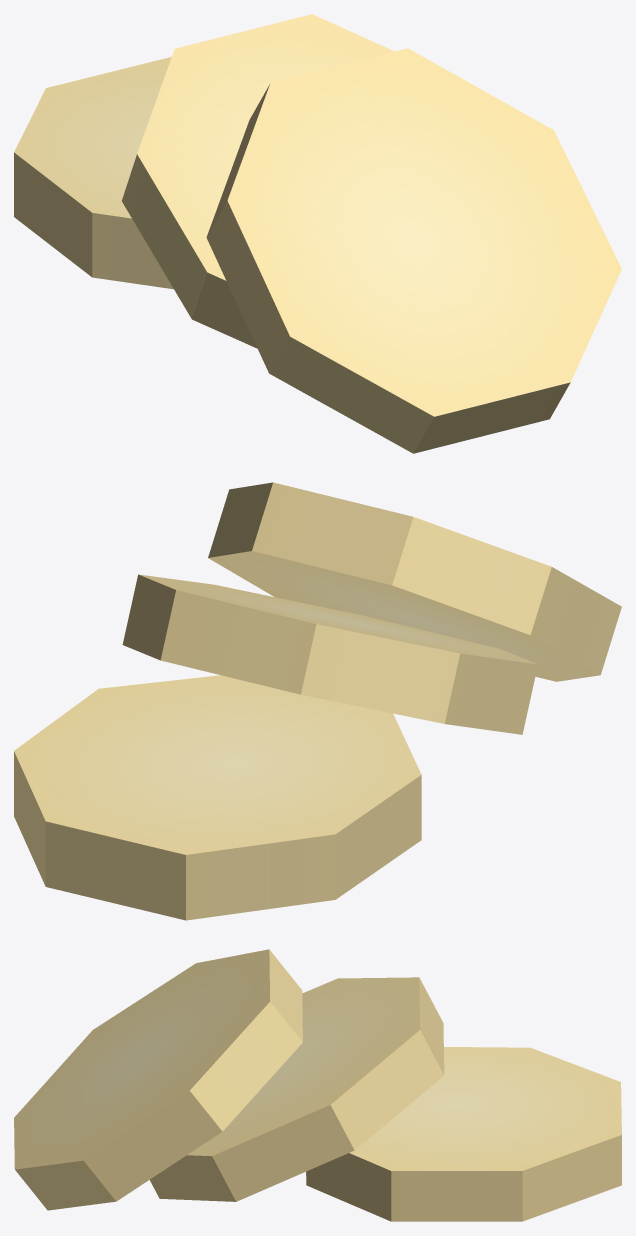
File: Banana Slice.fbx
3 renders of one model, top to bottom at view 1: azimuth 30°, elevation 25°; view 2: azimuth 150°, elevation 25°; view 3: azimuth 270°, elevation 25°, orthographic. The views are drawn at different scales.
Parts seen in each view (by area): view 1: Banana Slice.002, Banana Slice.001, Banana Slice; view 2: Banana Slice, Banana Slice.002, Banana Slice.001; view 3: Banana Slice.002, Banana Slice, Banana Slice.001.
Boxes of the visible parts, x1,y1,x2,y2 form: Banana Slice.002: [206, 48, 621, 453]; Banana Slice.001: [122, 14, 394, 348]; Banana Slice: [14, 57, 173, 289]; Banana Slice: [14, 675, 421, 920]; Banana Slice.002: [208, 482, 621, 681]; Banana Slice.001: [122, 574, 537, 734]; Banana Slice.002: [14, 949, 302, 1210]; Banana Slice: [306, 1047, 621, 1221]; Banana Slice.001: [150, 977, 444, 1201].
Size of the model in its own units: 5.85 by 4.59 by 12.07.
